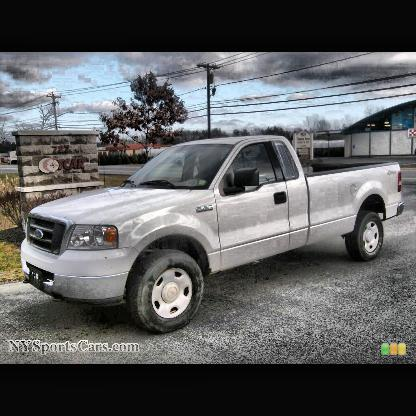Ford F-150 Regular Cab 2007: (21, 135, 404, 333)
